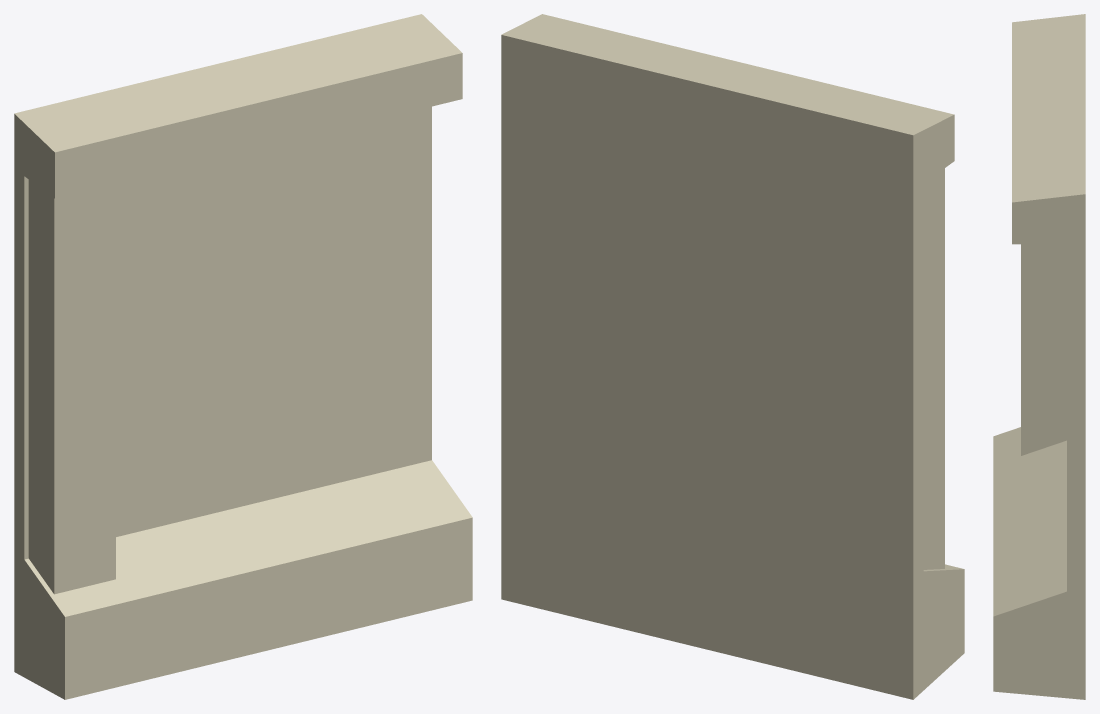
The model's file is SCANNER_link_mesh.dae.
The picture shows the model from 3 angles, left to right: view 1: azimuth 30°, elevation 25°; view 2: azimuth 150°, elevation 25°; view 3: azimuth 270°, elevation 25°; orthographic projection. The views are drawn at different scales.
Parts seen in each view (by area): view 1: SCANNER_link; view 2: SCANNER_link; view 3: SCANNER_link.
Part boxes in pixels (x1,y1,x2,y2): SCANNER_link: (14, 14, 472, 699); SCANNER_link: (501, 14, 964, 699); SCANNER_link: (993, 14, 1085, 699).
Bounding box in the file's own units: 0.463 × 0.606 × 0.1.
